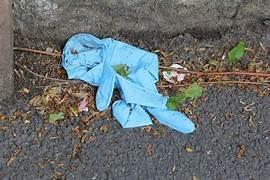Glove: (62, 33, 194, 132)
